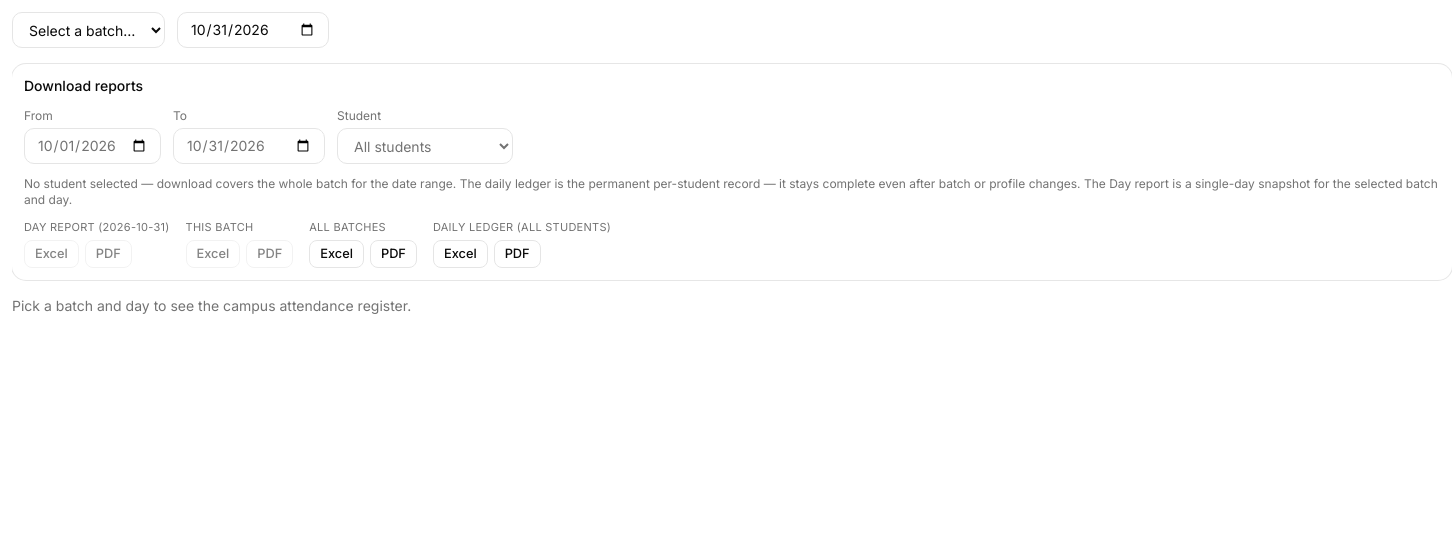
Test case: DayRegister › filters the roster to Absent, then Present
The image size is (1452, 554).
Select "Batch A" in the dropdown named "Select batch" at (88, 30), box [12,12,165,48]
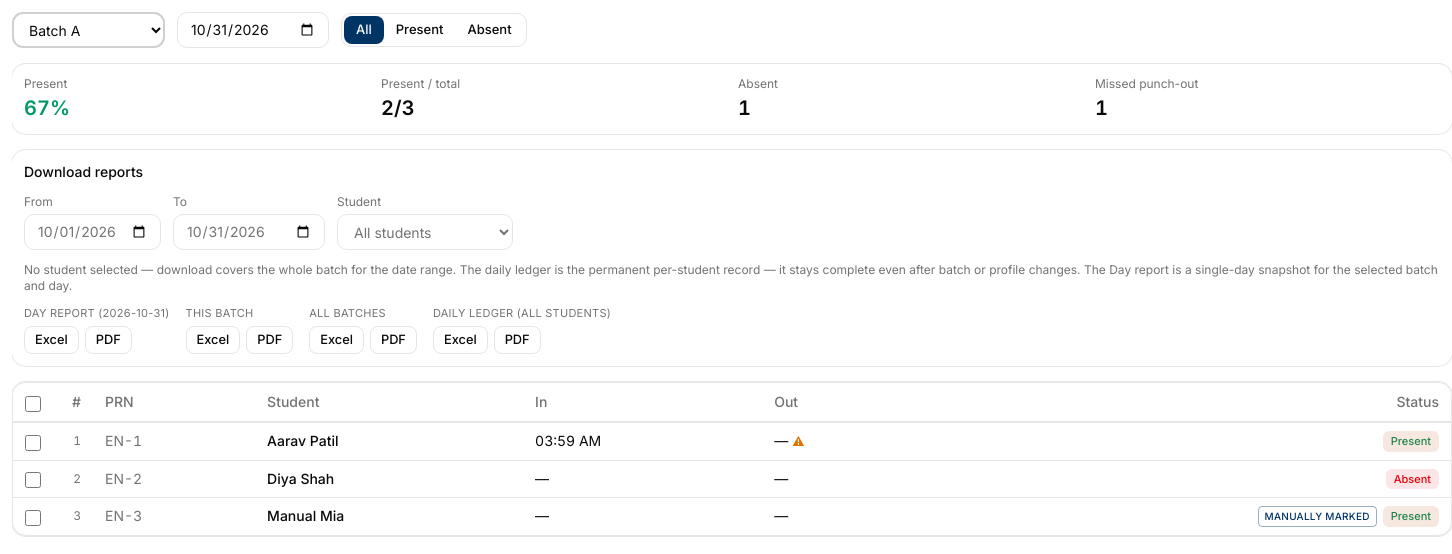
Click the radio button labelled "Absent" at (489, 30), box [455,16,524,44]
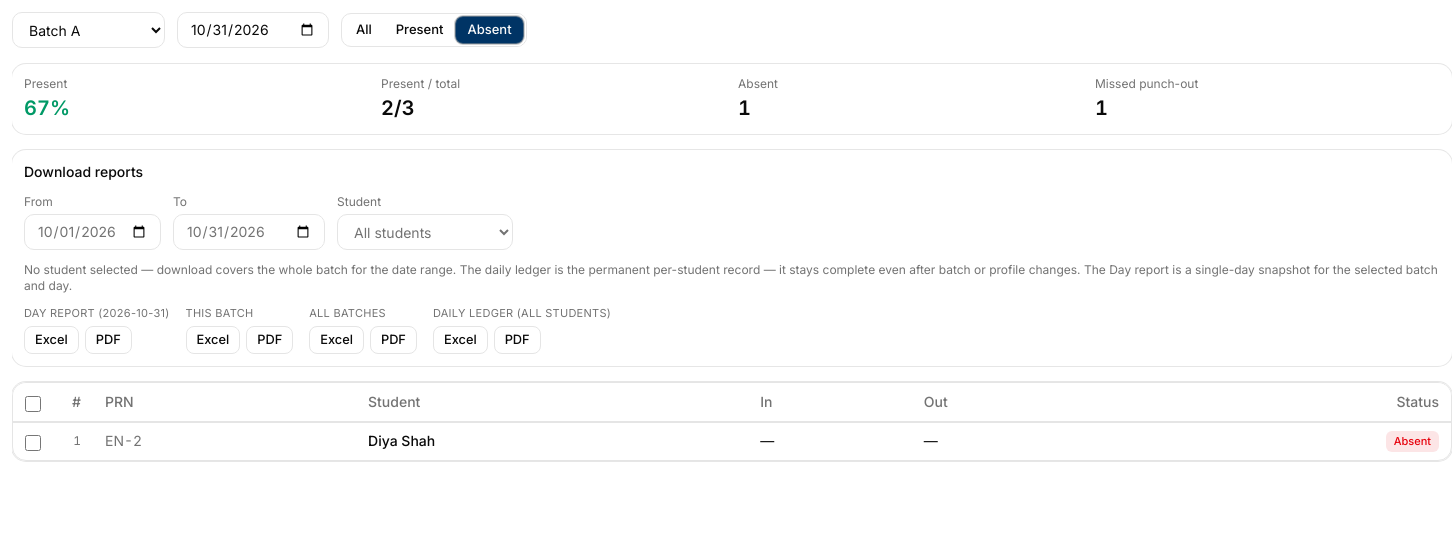
Expected: the text "Diya Shah" is shown, [356,423,748,460]
Expected: the text "Aarav Patil" is gone
Click the radio button labelled "Present" at (420, 30), box [384,16,455,44]
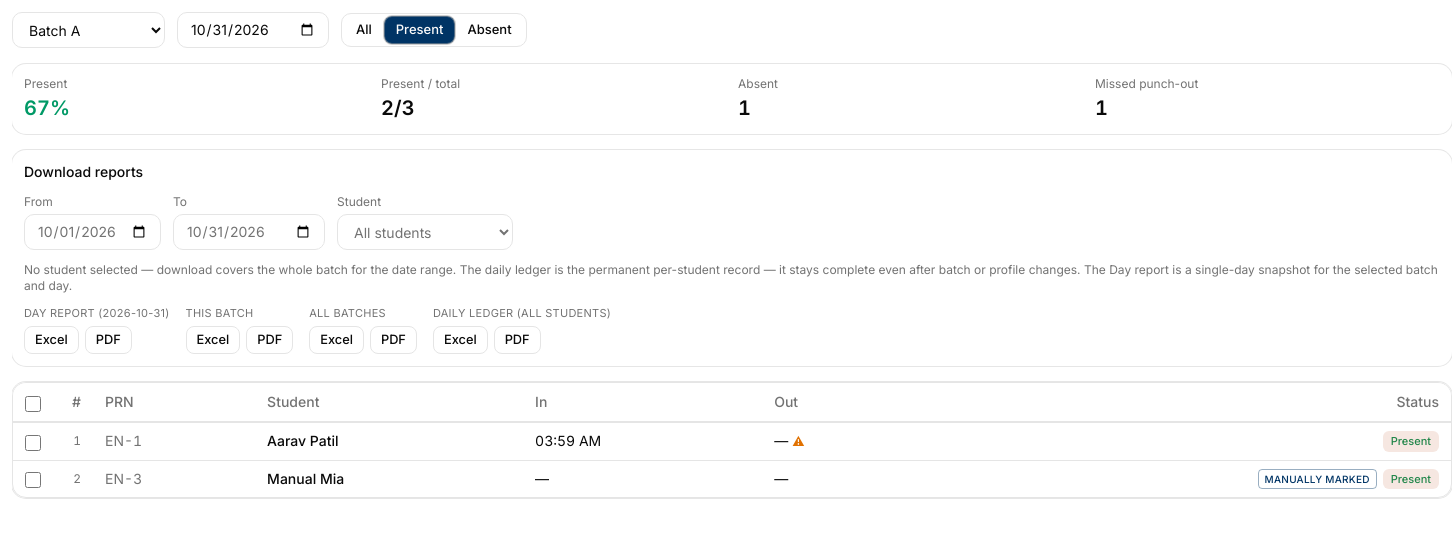
Expected: the text "Aarav Patil" is shown, [255,423,523,460]
Expected: the text "Diya Shah" is gone
